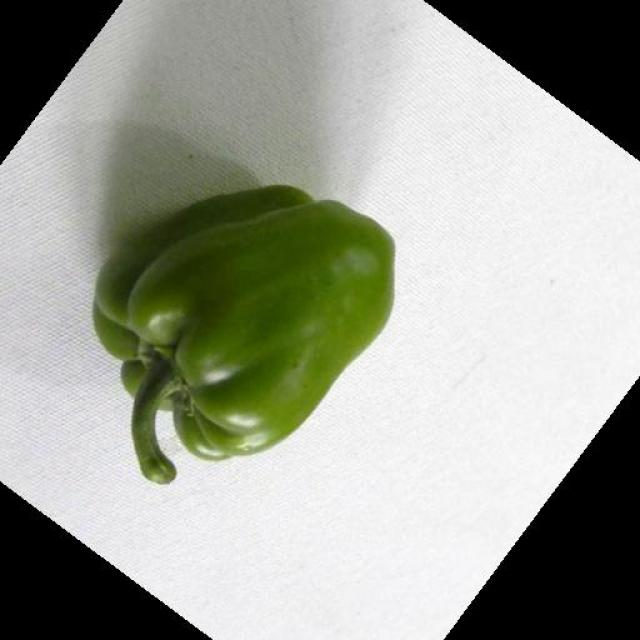Fresh_Capsicum: (59, 210, 454, 478)
